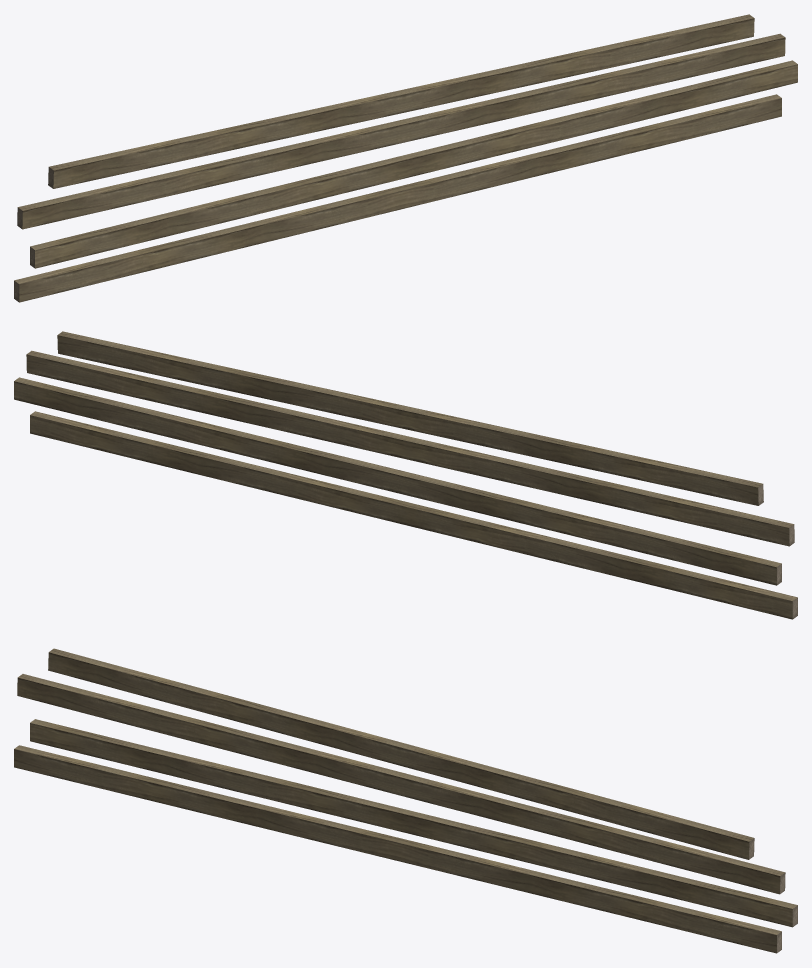
File: Planks_Path_C.fbx
The picture shows the model from 3 angles, top to bottom: view 1: azimuth 30°, elevation 25°; view 2: azimuth 150°, elevation 25°; view 3: azimuth 330°, elevation 25°; orthographic projection.
Parts seen in each view (by area): view 1: Planks_Path_C; view 2: Planks_Path_C; view 3: Planks_Path_C.
Boxes of the visible parts, box(x1,y1,x2,y2) form: Planks_Path_C: box(14, 14, 797, 302); Planks_Path_C: box(14, 331, 797, 619); Planks_Path_C: box(14, 648, 797, 953).
Bounding box in the file's own units: 10 × 1.52 × 0.1167.
